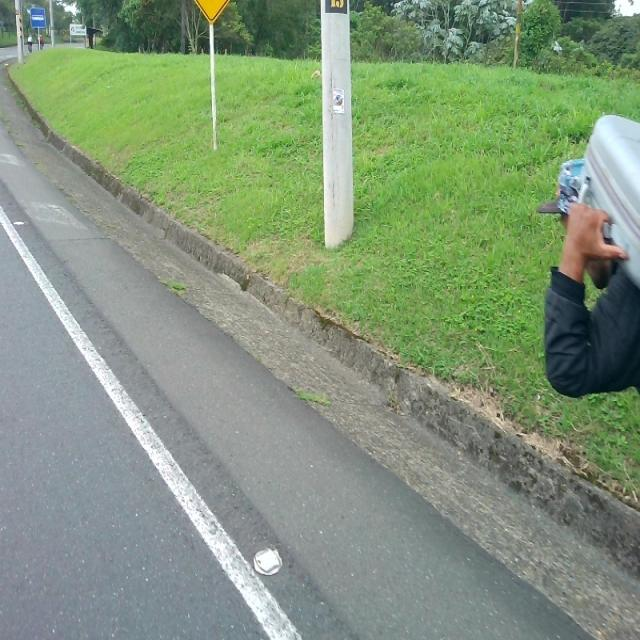DITCH: (2, 53, 638, 638), (1, 113, 638, 638)
